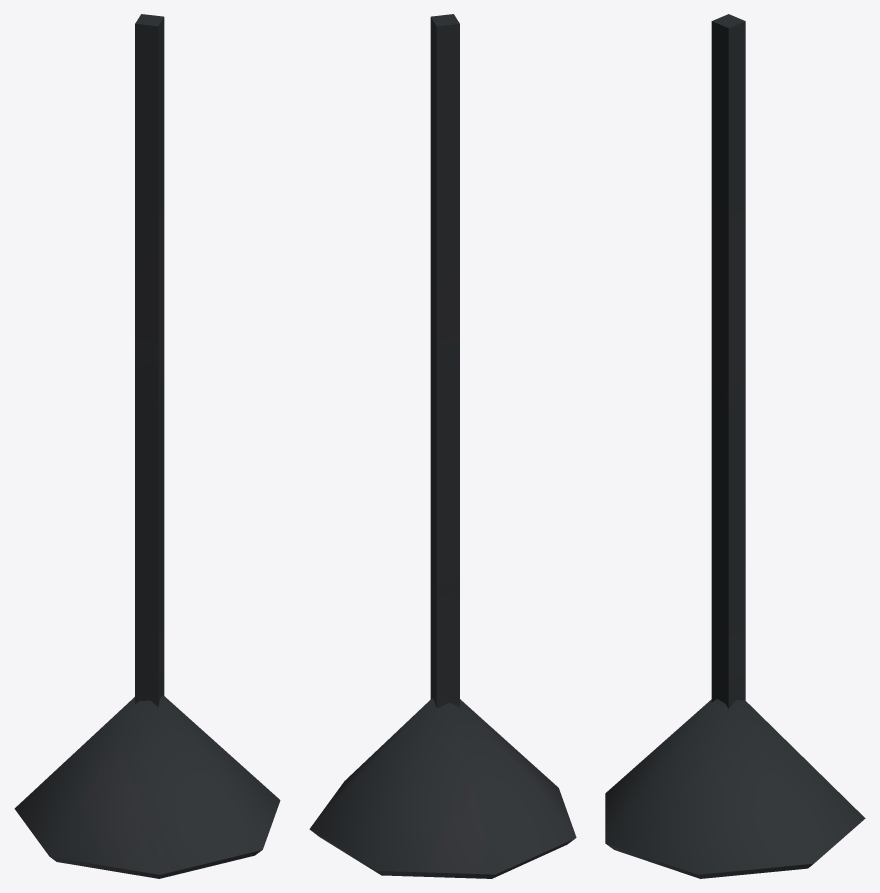
Rendered from Lamps_05.glb.
The picture shows the model from 3 angles, left to right: view 1: azimuth 30°, elevation 25°; view 2: azimuth 150°, elevation 25°; view 3: azimuth 270°, elevation 25°; orthographic projection.
Visible parts, largest first — view 1: Lamps_05; view 2: Lamps_05; view 3: Lamps_05.
Part boxes in pixels (box(x1,y1,x2,y2)): Lamps_05: box(14, 14, 280, 878); Lamps_05: box(309, 14, 576, 878); Lamps_05: box(605, 14, 865, 878).
Bounding box in the file's own units: 0.2906 × 0.9676 × 0.2833.
Materials: 2 (1 with a texture image).
